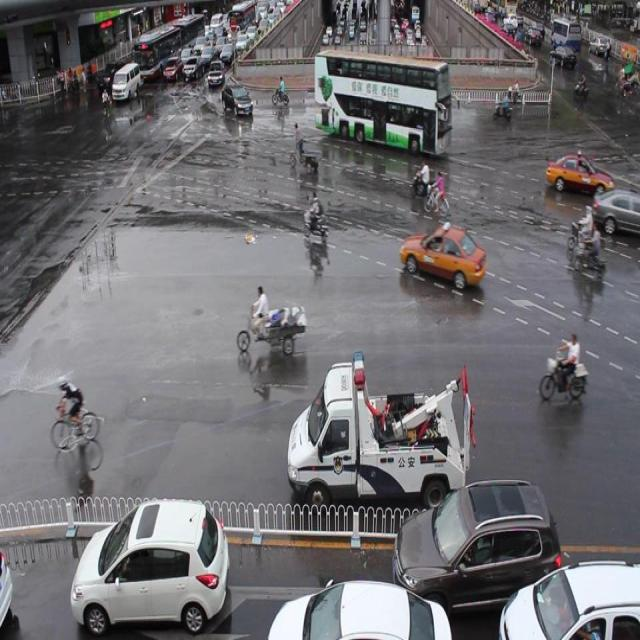bus: (287, 352, 473, 518)
car: (395, 478, 561, 626), (72, 497, 228, 631), (266, 576, 450, 640), (496, 559, 640, 639), (398, 226, 485, 290), (546, 152, 614, 198), (592, 186, 640, 237), (220, 83, 253, 118)
van: (313, 47, 451, 160)
